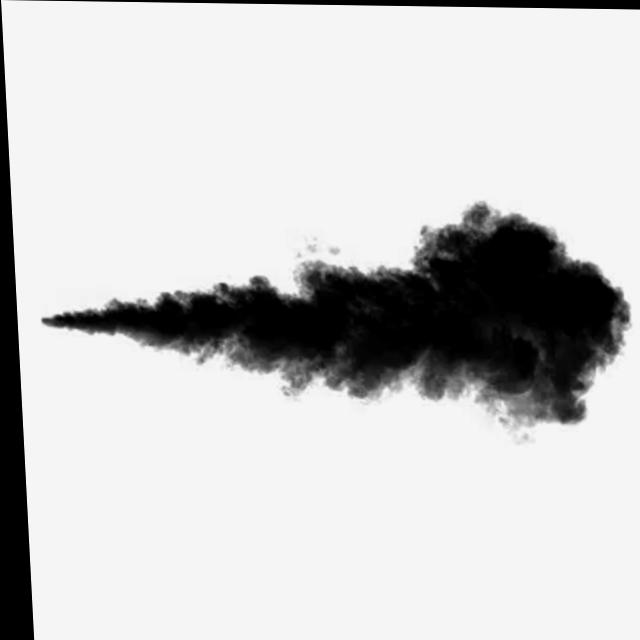Smoke: (32, 195, 631, 442)
